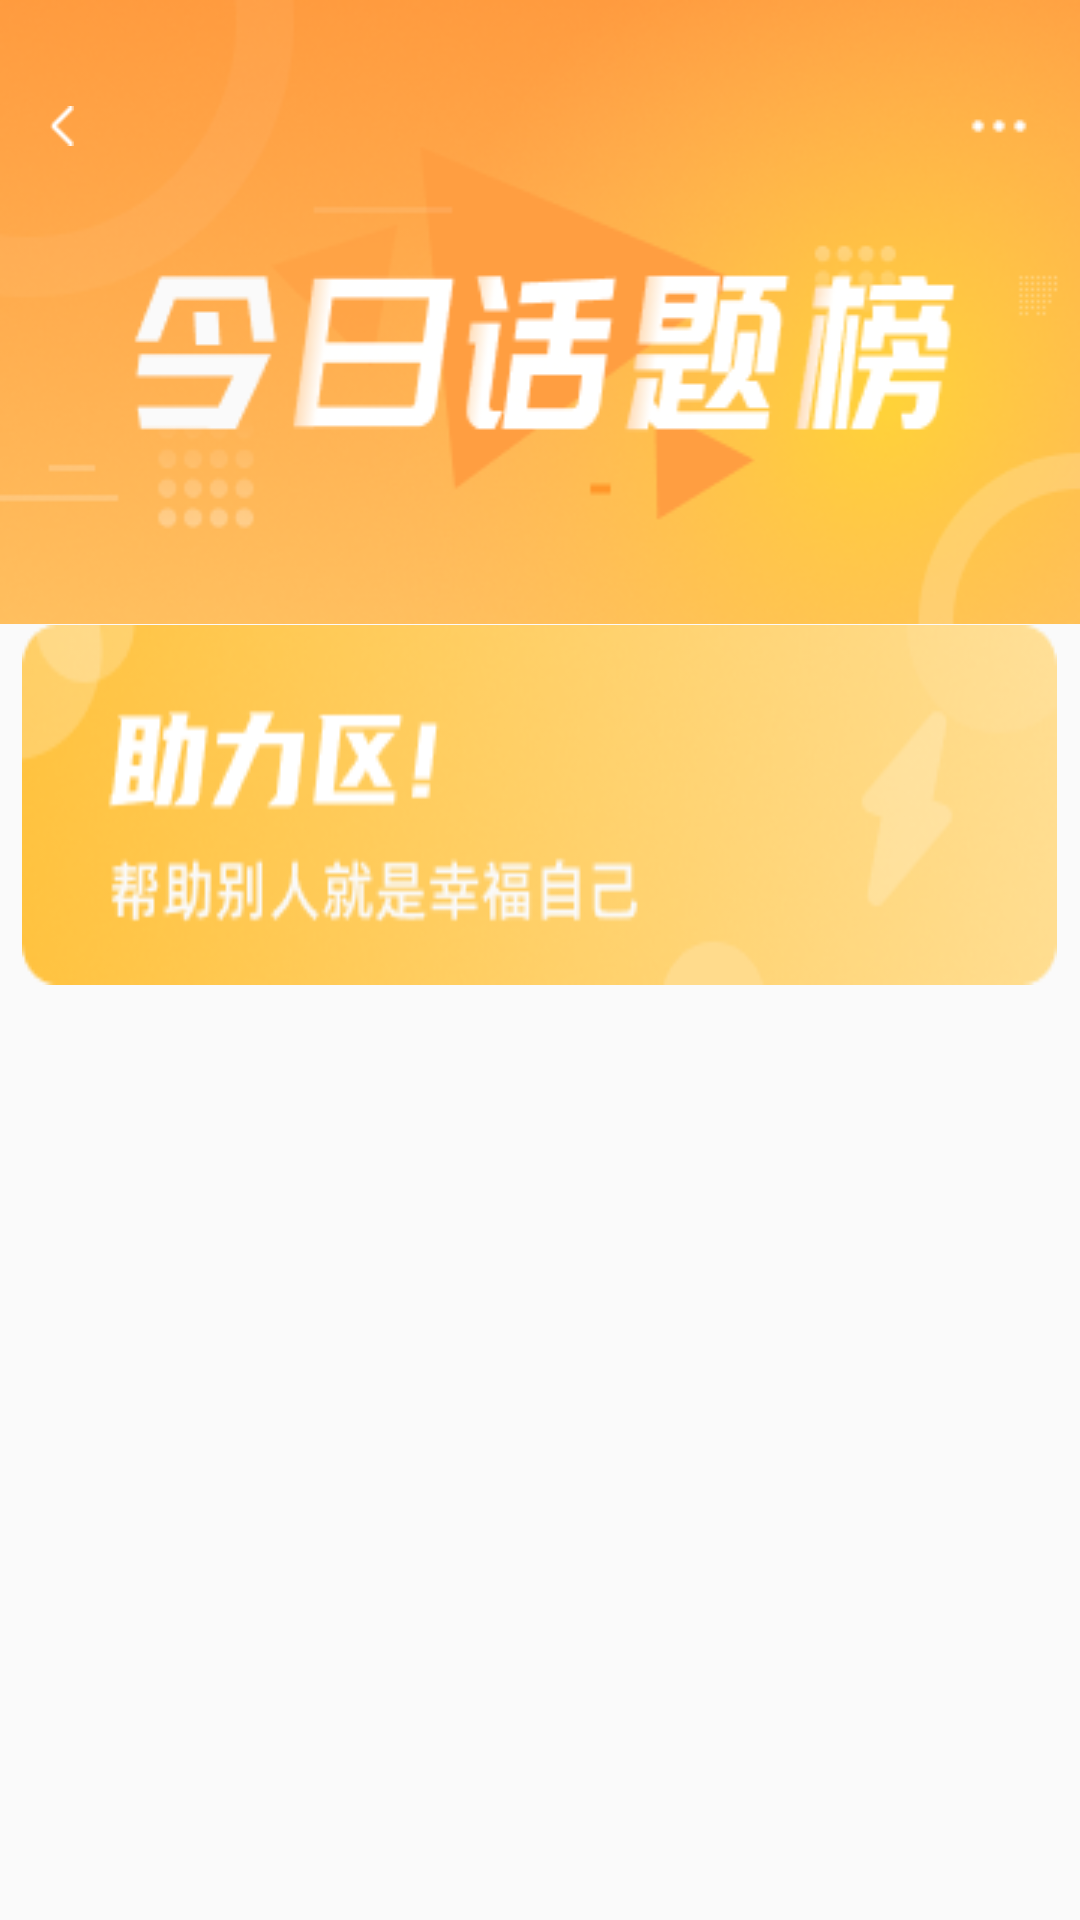

Icon click points for this 1080×1920 phone screenshot, format point (x, y):
src todaylist left: point (62, 126)
src todaylist more: point (999, 126)
